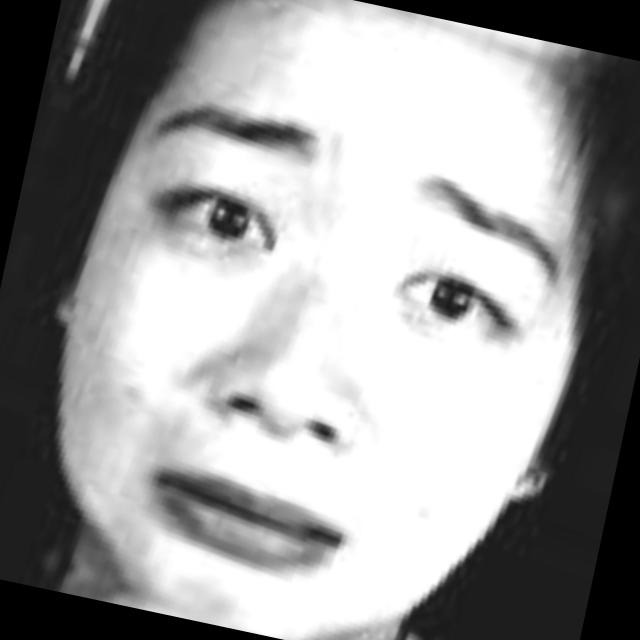fear: (34, 29, 600, 640)
